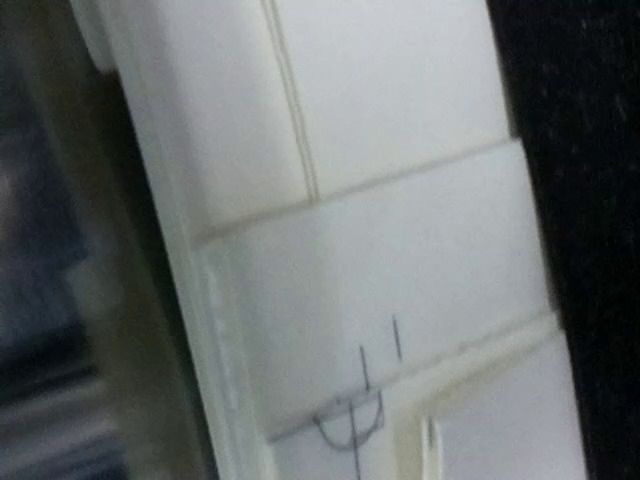not_sure: (268, 341, 395, 454)
